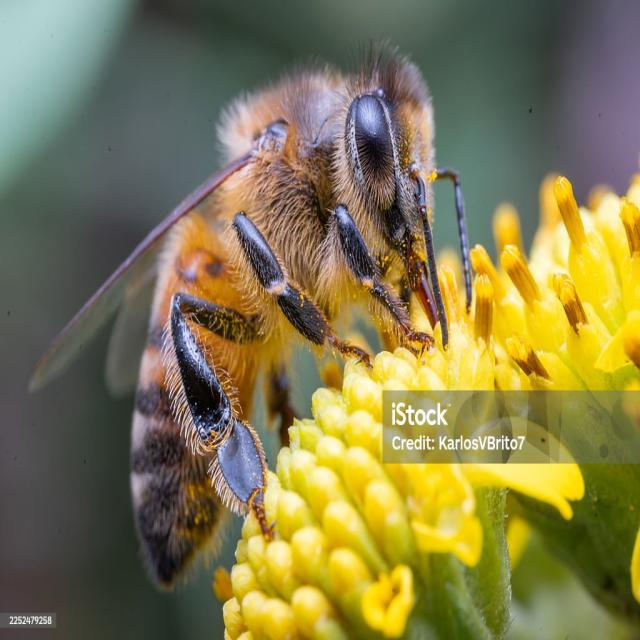bees: (25, 35, 478, 590)
